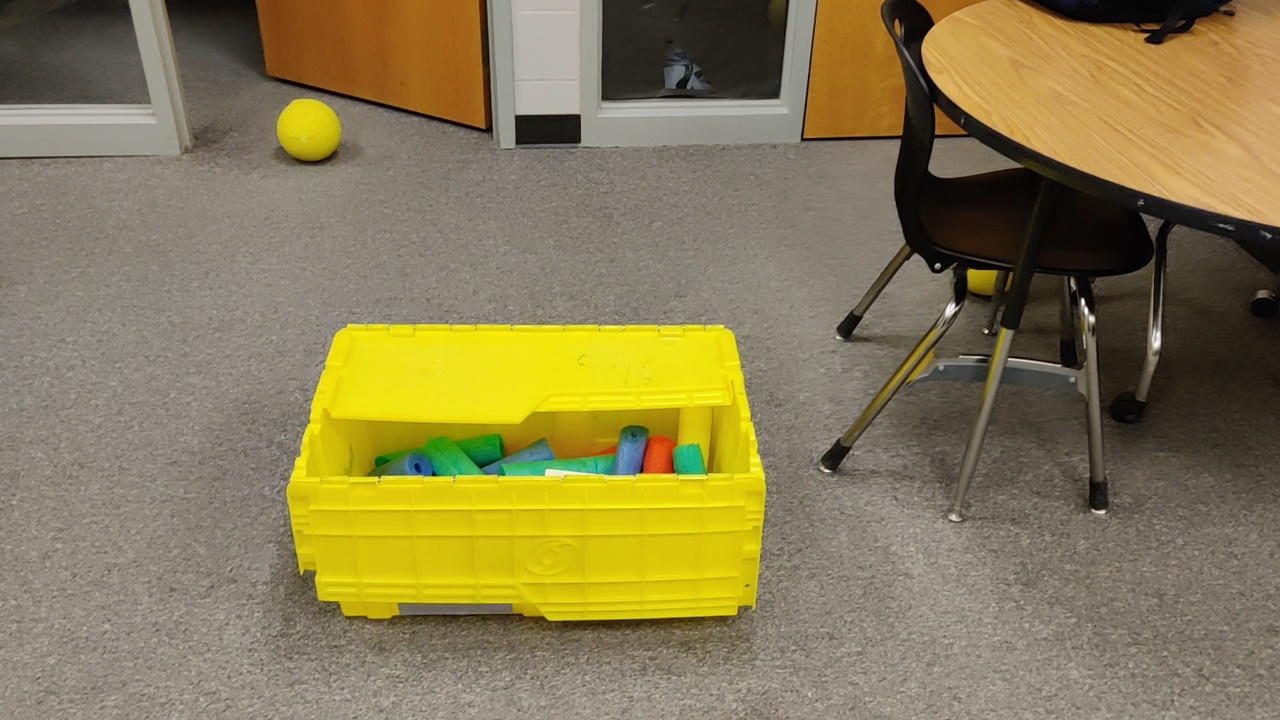Ball: (274, 99, 343, 164), (949, 268, 1013, 301)
